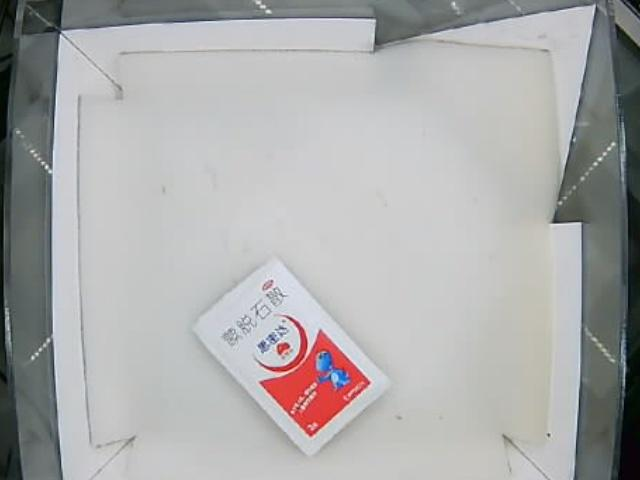Medicine: (193, 257, 391, 455)
